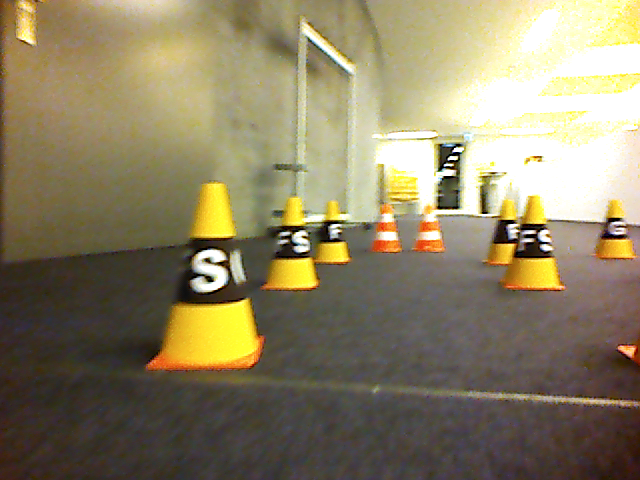yellowcone: (151, 181, 262, 371), (260, 195, 320, 290), (506, 196, 566, 289)
